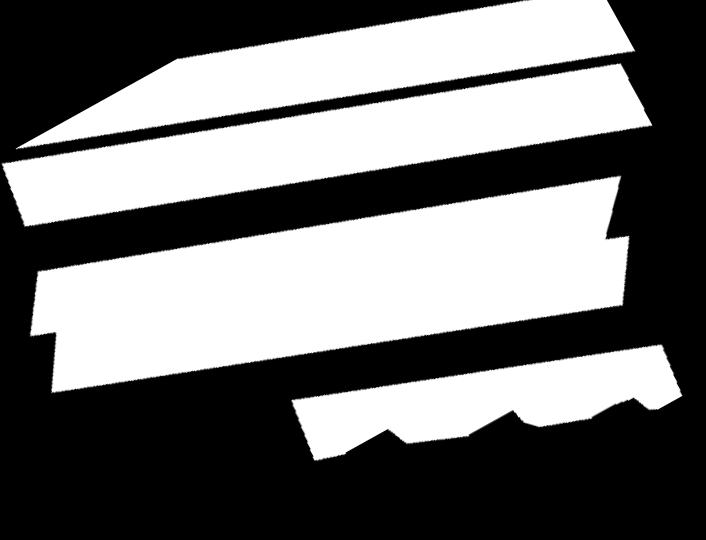parkingspot: (30, 176, 629, 393), (2, 63, 652, 227), (16, 0, 635, 149), (292, 345, 682, 461)
